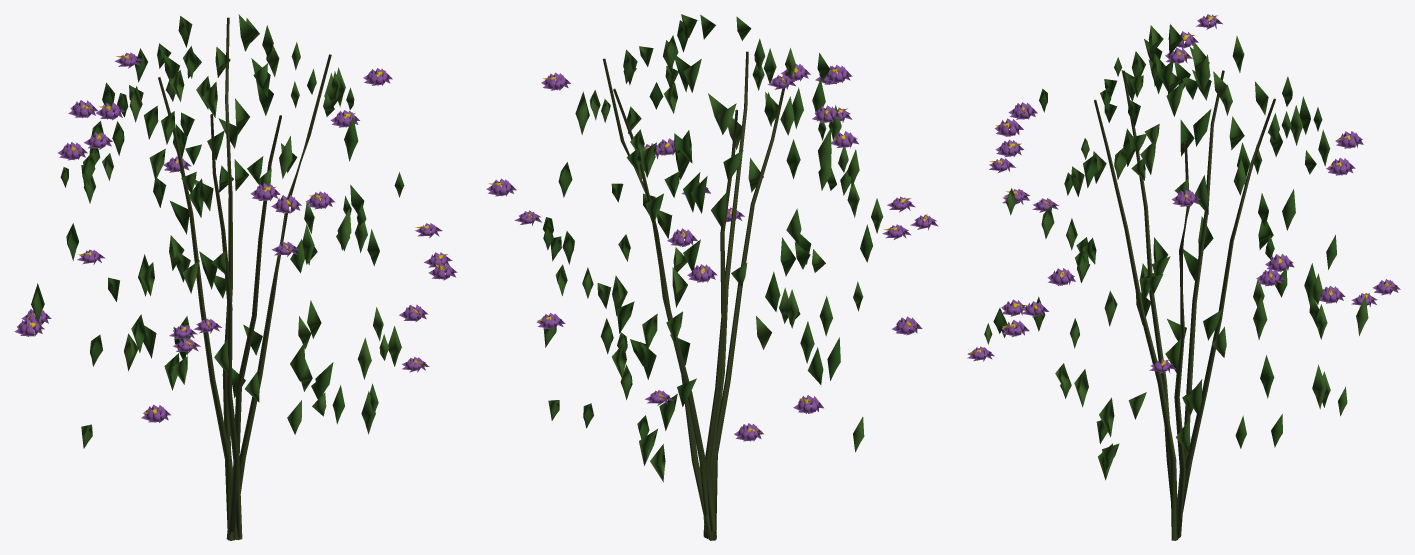
The model's file is Flower_Aster_1.glb.
3 renders of one model, left to right at view 1: azimuth 30°, elevation 25°; view 2: azimuth 150°, elevation 25°; view 3: azimuth 270°, elevation 25°, orthographic. The views are drawn at different scales.
Parts seen in each view (by area): view 1: Flower_Aster_1; view 2: Flower_Aster_1; view 3: Flower_Aster_1.
Part boxes in pixels (box(x1,y1,x2,y2)): Flower_Aster_1: box(14, 14, 457, 540); Flower_Aster_1: box(486, 14, 938, 540); Flower_Aster_1: box(967, 14, 1400, 540).
Bounding box in the file's own units: 0.8868 × 1.18 × 0.9409.
